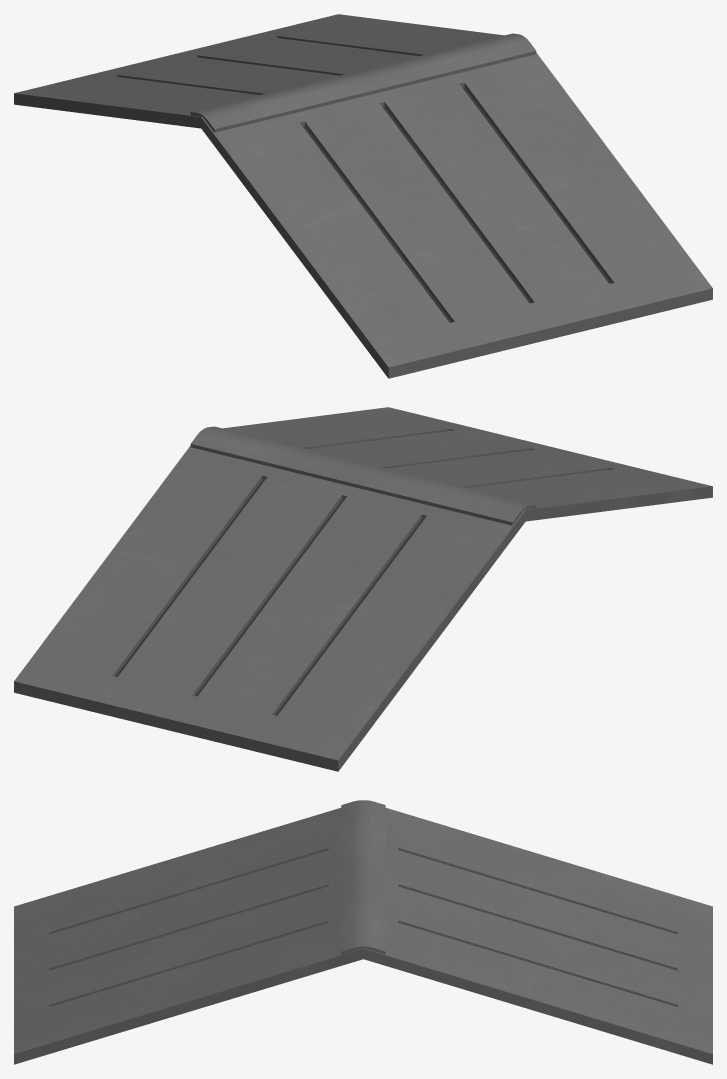
File: SM06_Building_RoofPanel_Gable_03_Mid_01.fbx
3 views of the same model, one above another, from view 1: azimuth 30°, elevation 25°; view 2: azimuth 150°, elevation 25°; view 3: azimuth 270°, elevation 25° (orthographic). The views are drawn at different scales.
Visible parts, largest first — view 1: SM06_Building_RoofPanel_Gable_03_Mid_01; view 2: SM06_Building_RoofPanel_Gable_03_Mid_01; view 3: SM06_Building_RoofPanel_Gable_03_Mid_01.
Part boxes in pixels (bbox=[...]): SM06_Building_RoofPanel_Gable_03_Mid_01: bbox=[14, 14, 712, 378]; SM06_Building_RoofPanel_Gable_03_Mid_01: bbox=[14, 407, 712, 771]; SM06_Building_RoofPanel_Gable_03_Mid_01: bbox=[14, 800, 712, 1064].
Size of the model in its own units: 15 by 5.57 by 30.
